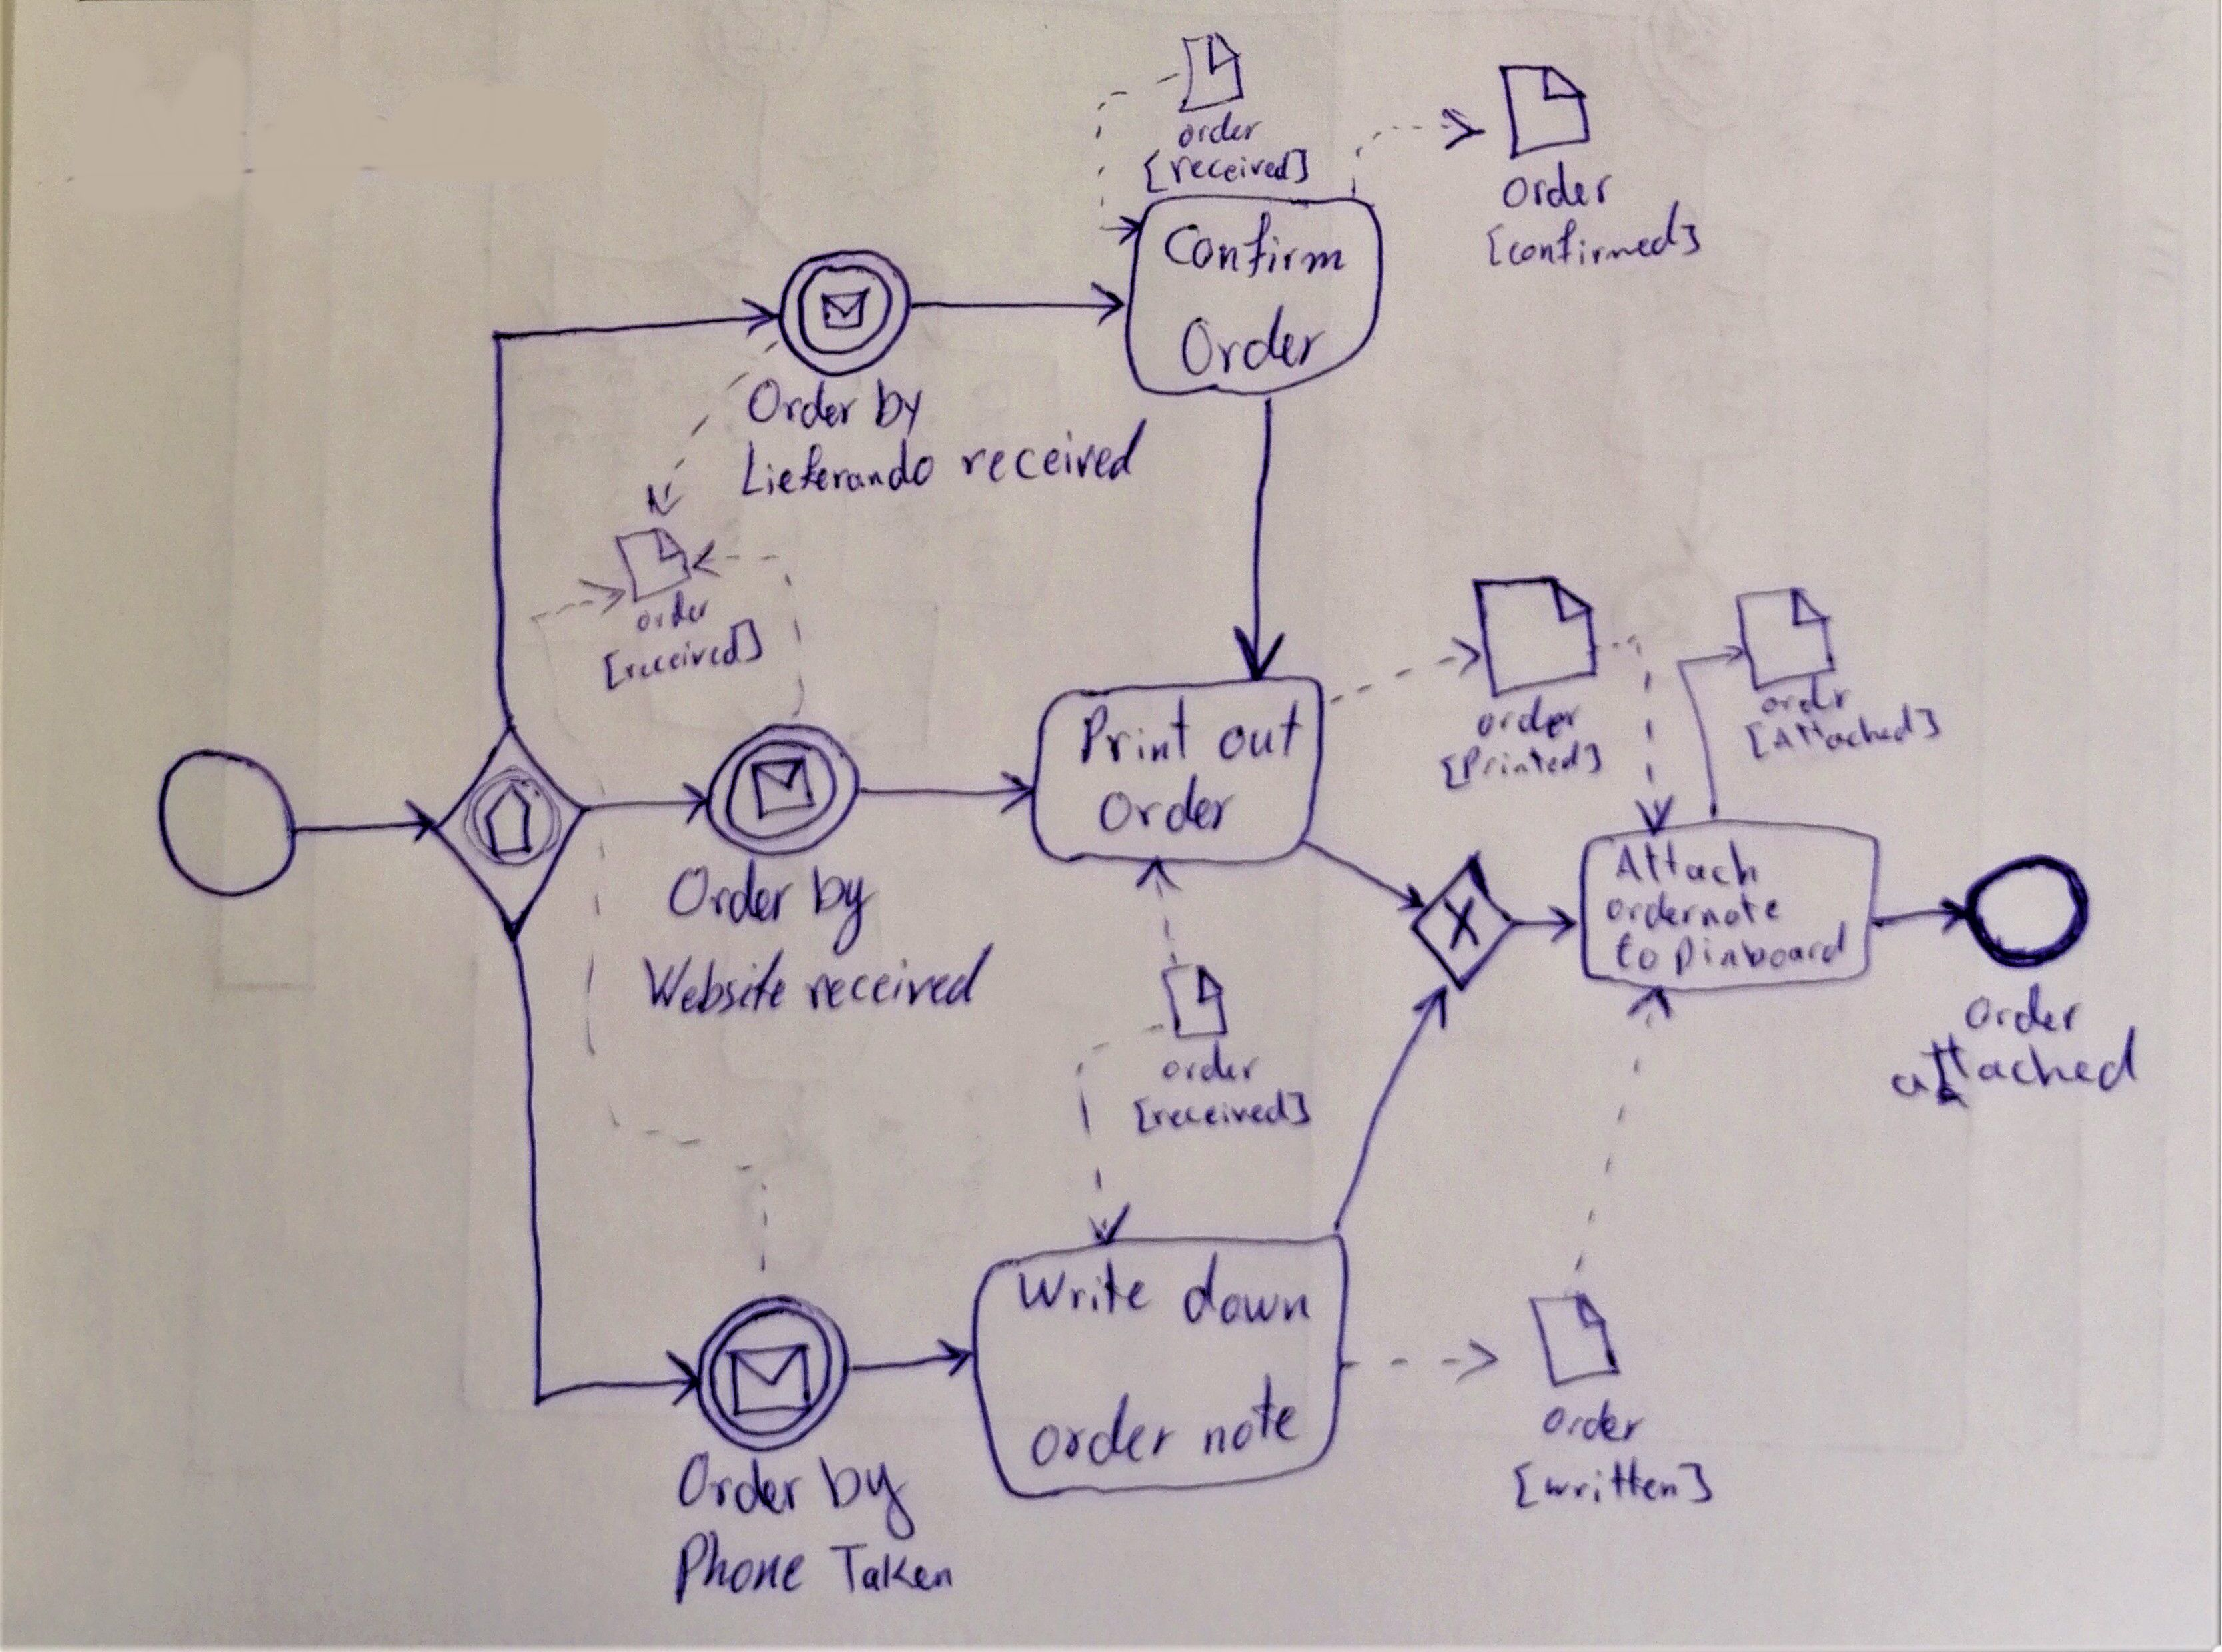Attach: (1613, 840, 1764, 888)
Confirm: (1160, 210, 1349, 279)
Lieferando: (740, 436, 937, 500)
Order: (1179, 302, 1328, 380), (1097, 770, 1238, 836), (675, 1447, 805, 1517), (665, 857, 795, 927), (1962, 980, 2087, 1036), (746, 375, 859, 436)
Phone: (674, 1527, 809, 1609)
Pinboard: (1672, 932, 1849, 980)
Print: (1078, 694, 1196, 765)
Taken: (828, 1539, 958, 1593)
Website: (641, 947, 790, 1017)
Write: (1016, 1260, 1154, 1315)
[Attached]: (1739, 724, 1941, 767)
[Printed]: (1434, 748, 1604, 795)
[confirmed]: (1482, 206, 1703, 269)
[received]: (1130, 1088, 1312, 1138), (1142, 146, 1311, 194), (597, 646, 764, 694)
[written]: (1510, 1458, 1717, 1510)
attached: (1887, 1026, 2142, 1102)
by: (816, 1451, 918, 1543), (811, 861, 880, 956), (871, 375, 929, 439)
down: (1180, 1251, 1316, 1329)
note: (1196, 1371, 1304, 1456)
order: (1029, 1390, 1179, 1470), (1502, 158, 1614, 212), (1476, 691, 1585, 739), (1540, 1399, 1649, 1444), (1161, 1041, 1267, 1085), (1760, 673, 1854, 717), (635, 587, 713, 633), (1175, 111, 1264, 149)
ordernote: (1602, 890, 1783, 932)
out: (1217, 699, 1304, 764)
received: (802, 944, 995, 1013), (958, 416, 1149, 484)
to: (1611, 928, 1663, 972)
